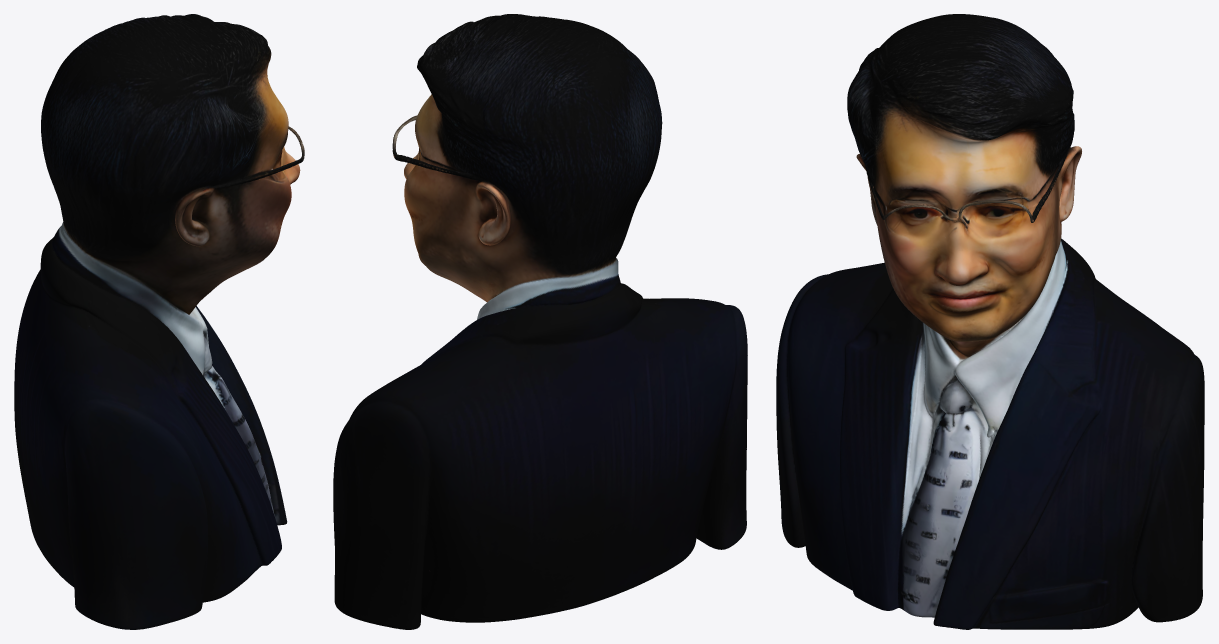
The model's file is 武東星.glb.
3 renders of one model, left to right at view 1: azimuth 30°, elevation 25°; view 2: azimuth 150°, elevation 25°; view 3: azimuth 270°, elevation 25°, orthographic. The views are drawn at different scales.
Visible parts, largest first — view 1: tripo_node_58a42bb5-e9c7-4ed6-9a53-99c7eb1e2889; view 2: tripo_node_58a42bb5-e9c7-4ed6-9a53-99c7eb1e2889; view 3: tripo_node_58a42bb5-e9c7-4ed6-9a53-99c7eb1e2889.
Boxes of the visible parts, x1,y1,x2,y2 form: tripo_node_58a42bb5-e9c7-4ed6-9a53-99c7eb1e2889: [14, 14, 304, 629]; tripo_node_58a42bb5-e9c7-4ed6-9a53-99c7eb1e2889: [333, 14, 747, 629]; tripo_node_58a42bb5-e9c7-4ed6-9a53-99c7eb1e2889: [776, 14, 1204, 629].
Size of the model in its own units: 0.5689 by 1 by 0.7213.
1 material, 1 textured.
